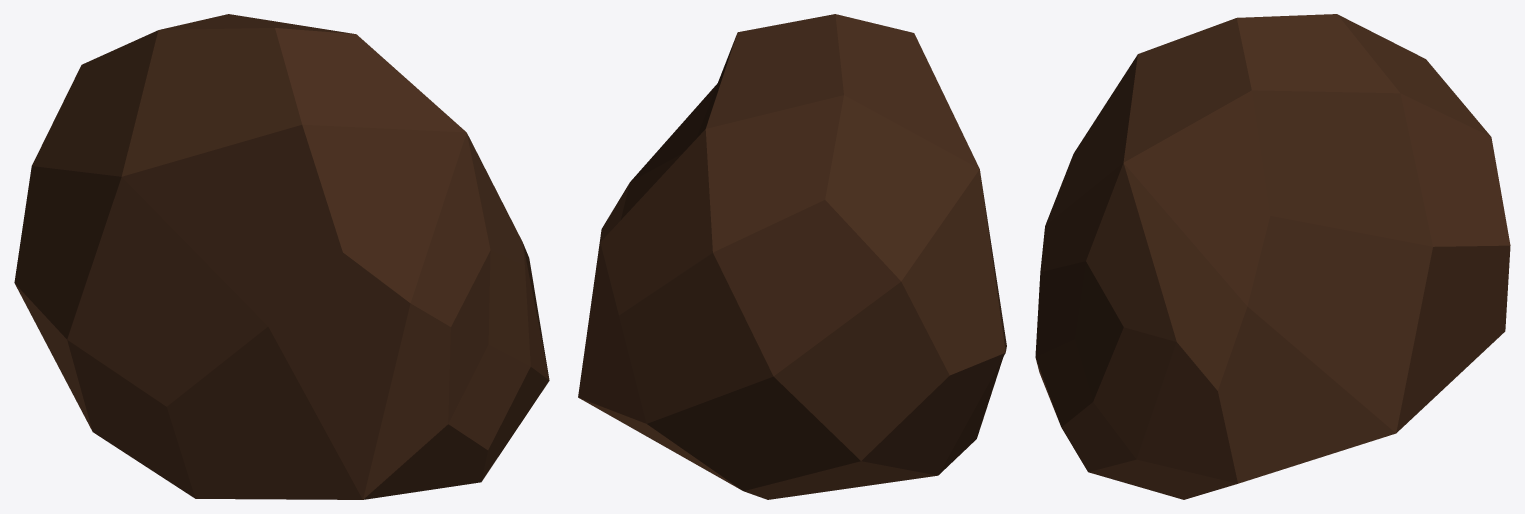
Rendered from Boulder5.glb.
The picture shows the model from 3 angles, left to right: view 1: azimuth 30°, elevation 25°; view 2: azimuth 150°, elevation 25°; view 3: azimuth 270°, elevation 25°; orthographic projection. The views are drawn at different scales.
Visible parts, largest first — view 1: Boulder5; view 2: Boulder5; view 3: Boulder5.
Part boxes in pixels (x1,y1,x2,y2): Boulder5: (14,14,549,499); Boulder5: (578,14,1006,499); Boulder5: (1035,14,1510,499).
Size of the model in its own units: 1.12 by 1.12 by 1.14.
